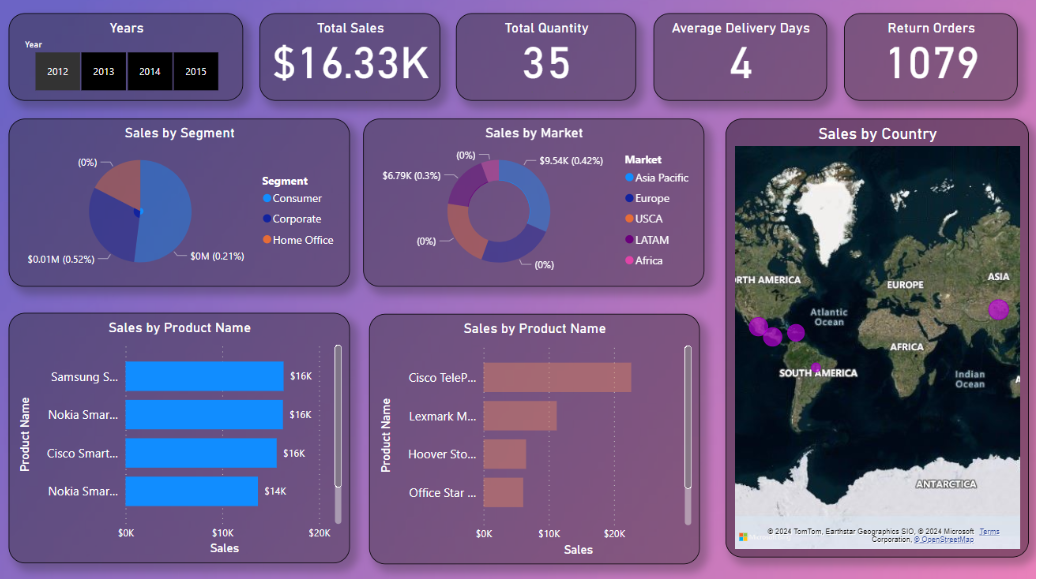

The dashboard page shown, as its layout file describes it:
{"tool":"powerbi","page":{"name":"Page 1","canvas":[1280,720],"ordinal":0},"visuals":[{"type":"card","title":"Total Sales","fields":{"Values":["Sum(Orders.Sales)"]},"box":[322.7,26.3,221,107],"z":0},{"type":"card","title":"Average Delivery Days","fields":{"Values":["Avg(Orders.Delivery Date)"]},"box":[804.2,26.3,212.2,107],"z":1000},{"type":"card","title":"Total Quantity","fields":{"Values":["Sum(Orders.Quantity)"]},"box":[563,26.3,220.1,107],"z":2000},{"type":"slicer","title":"Years","fields":{"Values":["Orders.Year"]},"box":[16.7,26.3,286.8,107],"z":3000},{"type":"card","title":"Return Orders","fields":{"Values":["Sum(Returns.Return Orders)"]},"box":[1036.8,26.3,212,107],"z":4000},{"type":"map","fields":{"Size":["Sum(Orders.Sales)"],"Category":["Orders.Country"]},"box":[891.9,155.2,370.1,536.7],"z":5000},{"type":"clusteredBarChart","fields":{"Y":["Sum(Orders.Sales)"],"Category":["Orders.Product Name"]},"box":[16.7,393.8,416.6,306.1],"z":6000},{"type":"clusteredBarChart","fields":{"Y":["Sum(Orders.Sales)"],"Category":["Orders.Product Name"]},"box":[457.1,393.9,403.6,306.4],"z":7000},{"type":"pieChart","fields":{"Y":["Sum(Orders.Sales)"],"Category":["Orders.Segment"]},"box":[16.7,155.2,416.6,205.2],"z":8000},{"type":"donutChart","fields":{"Y":["Sum(Orders.Sales)"],"Category":["Orders.Market"]},"box":[449.9,155.2,416.6,205.2],"z":9000}]}

Visuals, with their boxes in screenshot pixels (x1, y1, x2, y2), scaled from the page's 1280x720 canvas onto the 1037x579 screenshot:
"Total Sales" card: 261:21:440:107
"Average Delivery Days" card: 652:21:823:107
"Total Quantity" card: 456:21:634:107
"Years" slicer: 14:21:246:107
"Return Orders" card: 840:21:1012:107
map - Sum(Orders.Sales) x Orders.Country: 723:125:1022:556
clusteredBarChart - Sum(Orders.Sales) x Orders.Product Name: 14:317:351:563
clusteredBarChart - Sum(Orders.Sales) x Orders.Product Name: 370:317:697:563
pieChart - Sum(Orders.Sales) x Orders.Segment: 14:125:351:290
donutChart - Sum(Orders.Sales) x Orders.Market: 364:125:702:290
